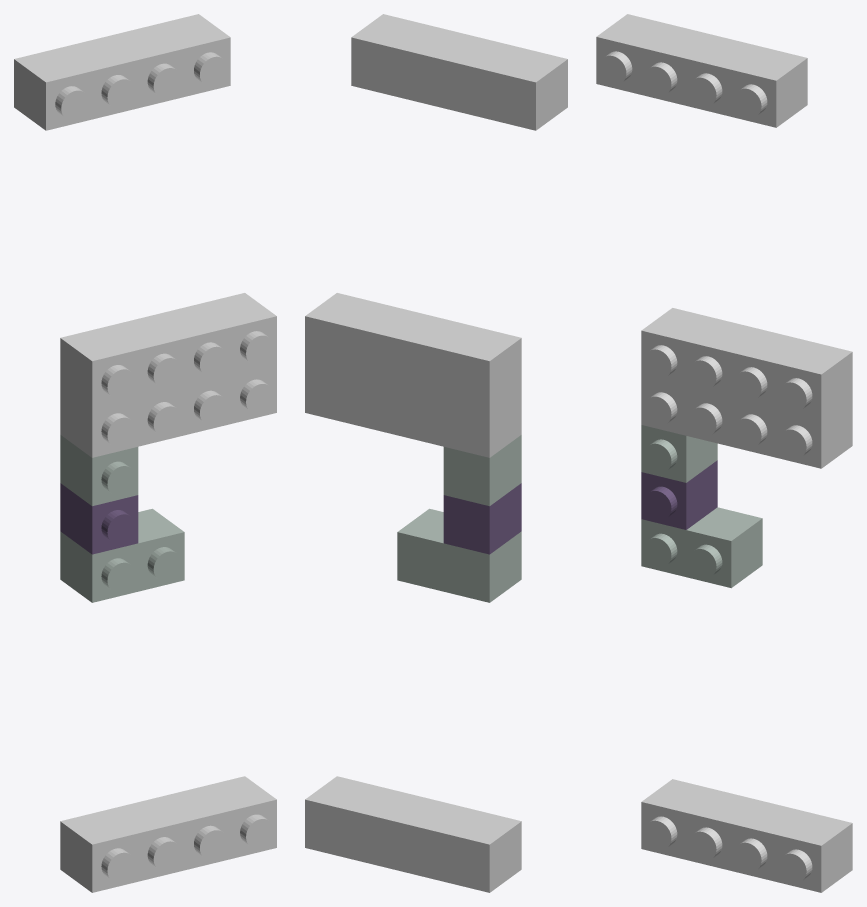
Rendered from current.glb.
The picture shows the model from 3 angles, left to right: view 1: azimuth 30°, elevation 25°; view 2: azimuth 150°, elevation 25°; view 3: azimuth 330°, elevation 25°; orthographic projection. The views are drawn at different scales.
Visible parts, largest first — view 1: world; view 2: world; view 3: world.
Boxes of the visible parts, x1,y1,x2,y2 form: world: [14, 14, 276, 892]; world: [305, 14, 567, 892]; world: [596, 14, 852, 892].
Bounding box in the file's own units: 40 × 136 × 11.4.
